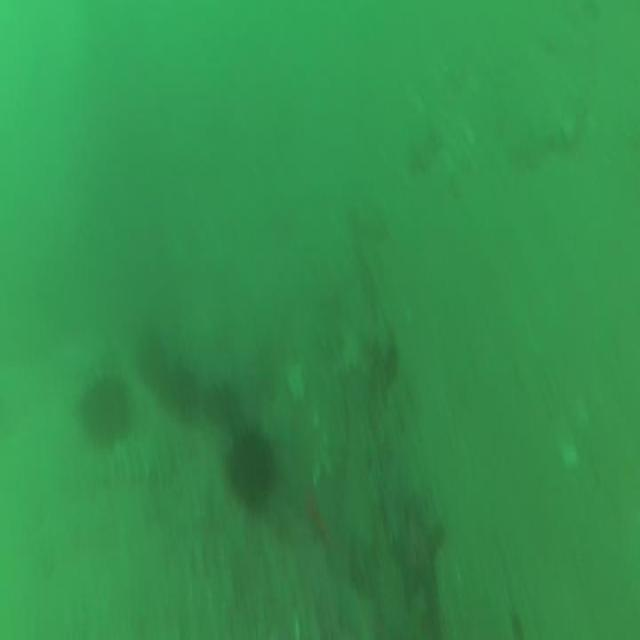echinus: (78, 370, 127, 446), (230, 433, 276, 512), (133, 335, 169, 393), (160, 368, 202, 416), (205, 384, 233, 427)
starfish: (392, 504, 444, 608)
